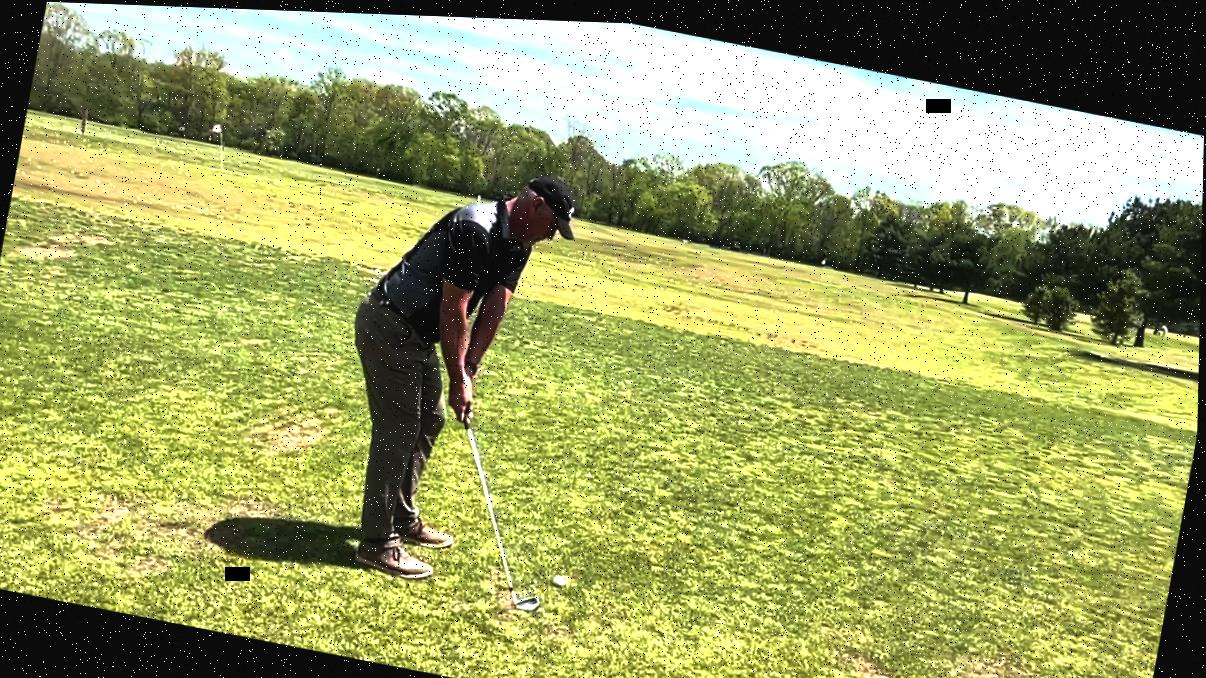ClubHead: (502, 579, 547, 617)
GolfBall: (551, 567, 571, 588)
